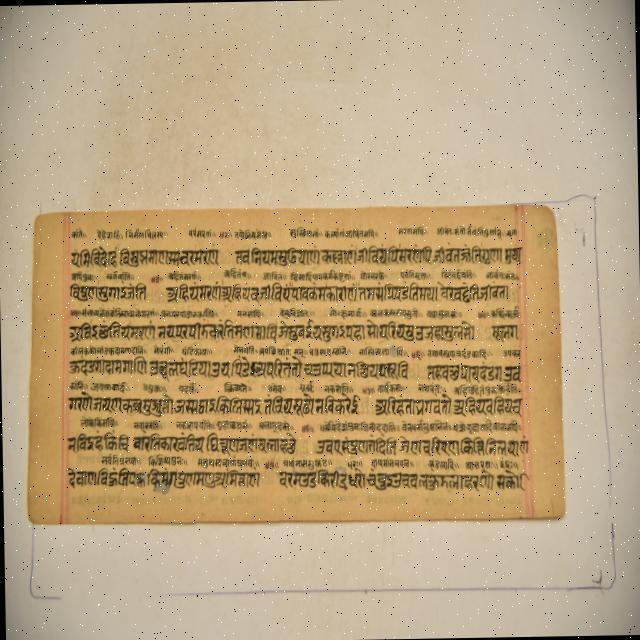text_paragraph: (25, 203, 562, 524)
